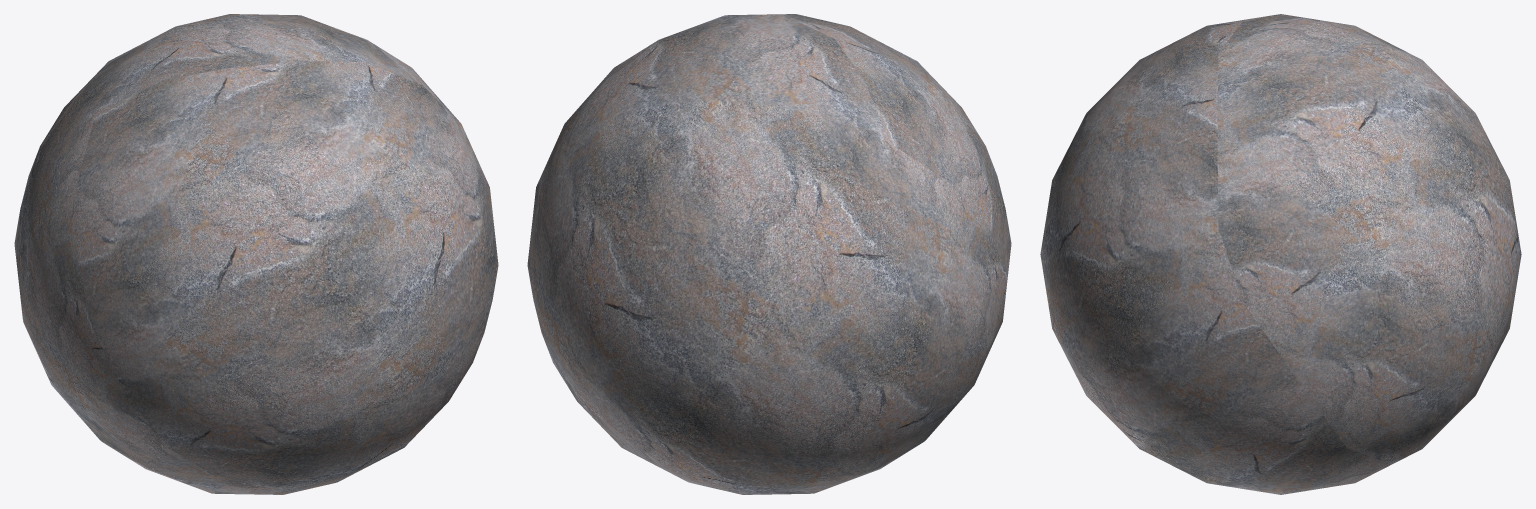
File: canonBall.glb
3 renders of one model, left to right at view 1: azimuth 30°, elevation 25°; view 2: azimuth 150°, elevation 25°; view 3: azimuth 270°, elevation 25°, orthographic.
Parts seen in each view (by area): view 1: cannonBall.jpg__; view 2: cannonBall.jpg__; view 3: cannonBall.jpg__.
Boxes of the visible parts, x1=… form: cannonBall.jpg__: x1=14, y1=14, x2=498, y2=494; cannonBall.jpg__: x1=527, y1=14, x2=1011, y2=494; cannonBall.jpg__: x1=1040, y1=14, x2=1521, y2=494.
Size of the model in its own units: 8.73 by 8.73 by 8.73.
Materials: 1 (1 with a texture image).
